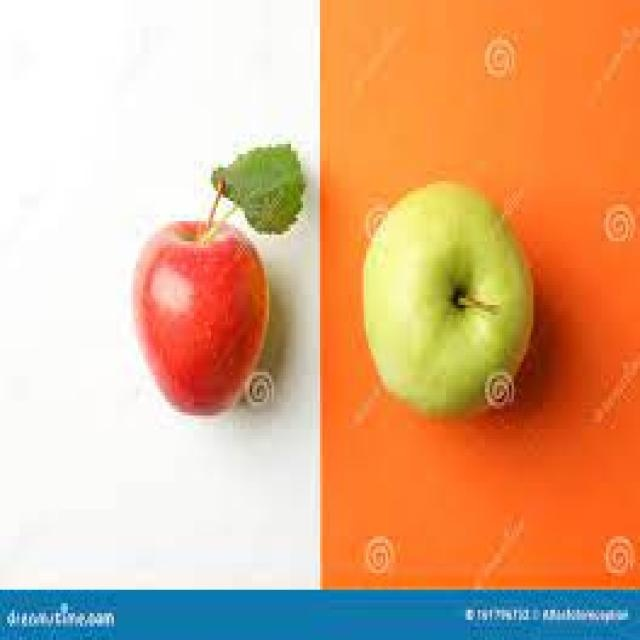agrume: (327, 132, 553, 444), (131, 106, 322, 444)
